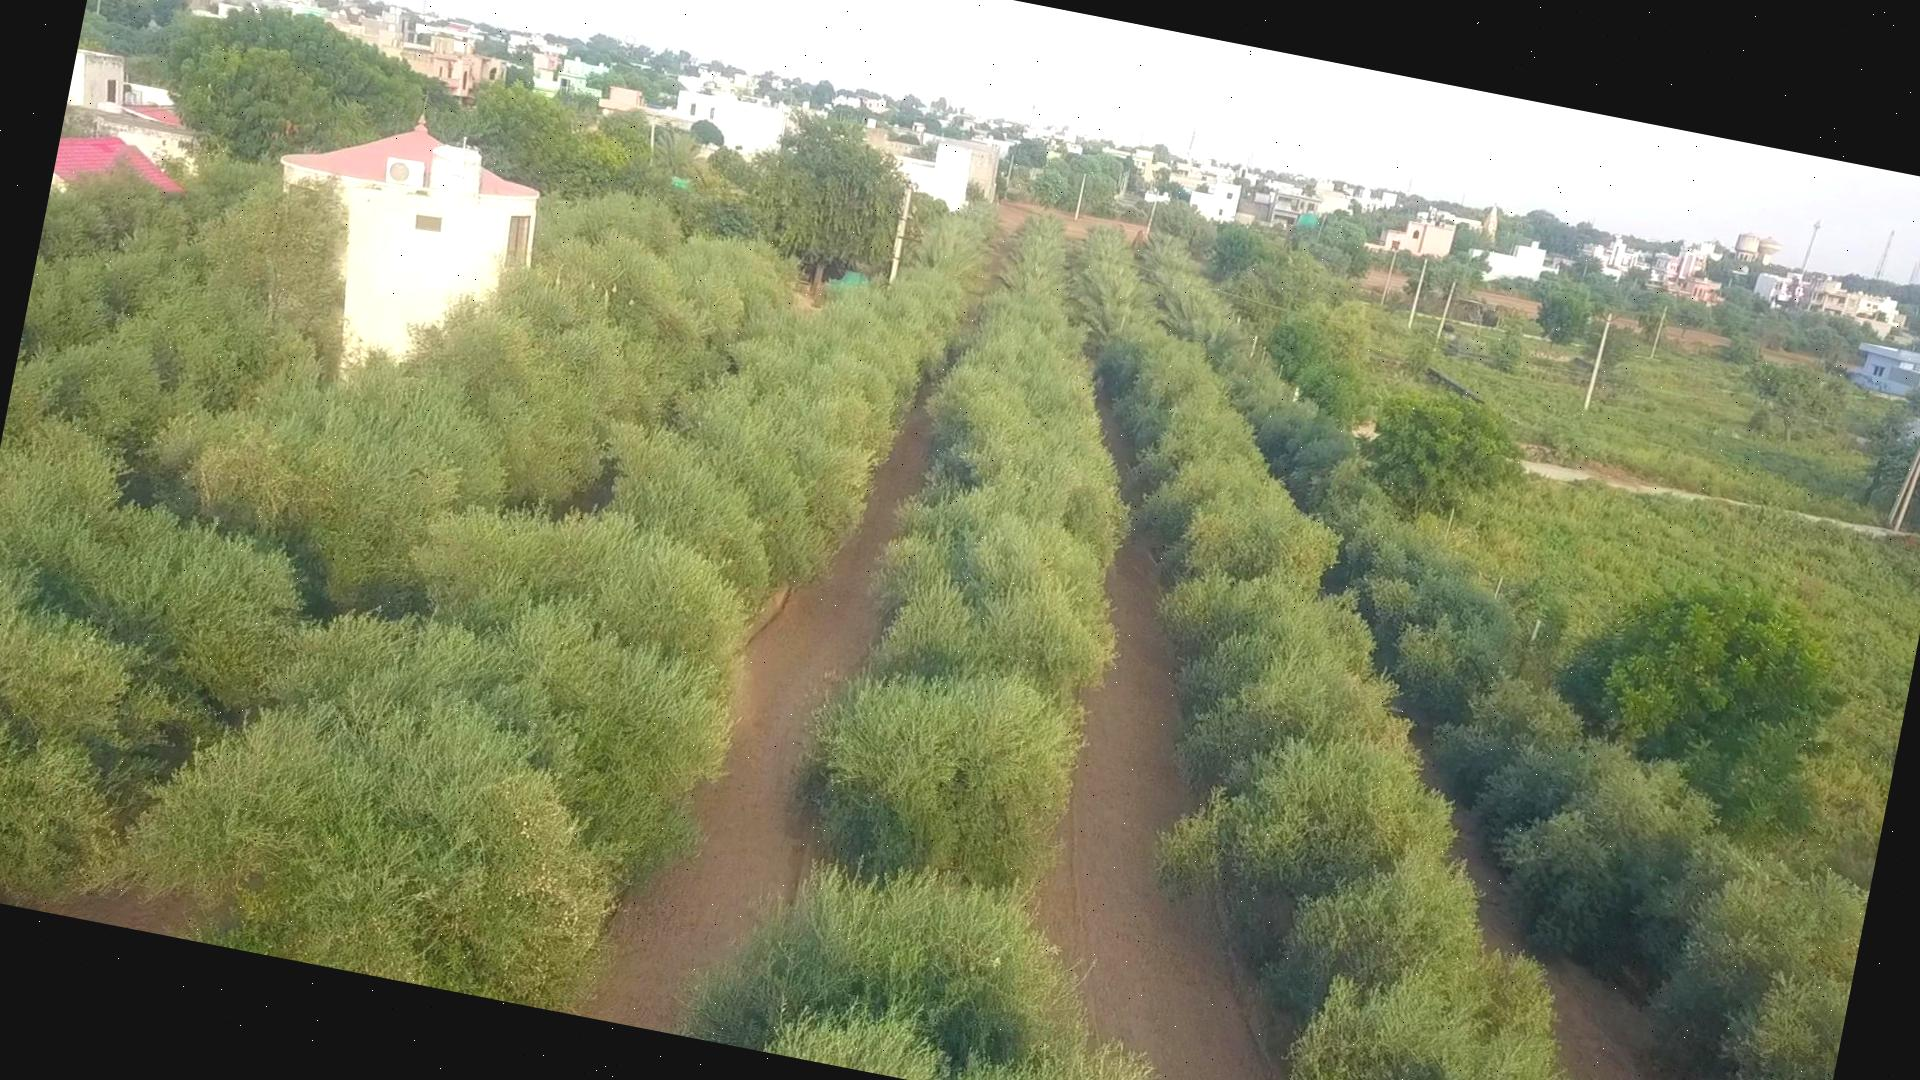canopy: (84, 236, 968, 1007), (1143, 252, 1869, 1080), (0, 240, 773, 902), (1068, 255, 1575, 1080), (679, 244, 1151, 1080)
road: (587, 402, 932, 1033), (1039, 524, 1284, 1080), (1453, 803, 1671, 1080)
